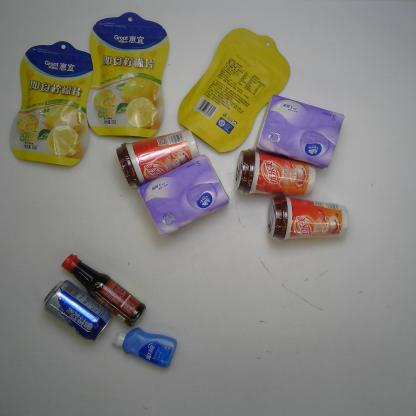Alcohol: (42, 279, 112, 339)
Dried Fruit: (174, 26, 290, 154), (84, 9, 172, 139), (10, 40, 95, 168)
Instant Drink: (114, 126, 198, 187), (231, 146, 319, 200), (263, 192, 351, 244)
Personal Hygiene: (107, 327, 177, 370)
Seasoner: (58, 252, 145, 326)
Tissue: (138, 152, 229, 236), (257, 90, 345, 168)
